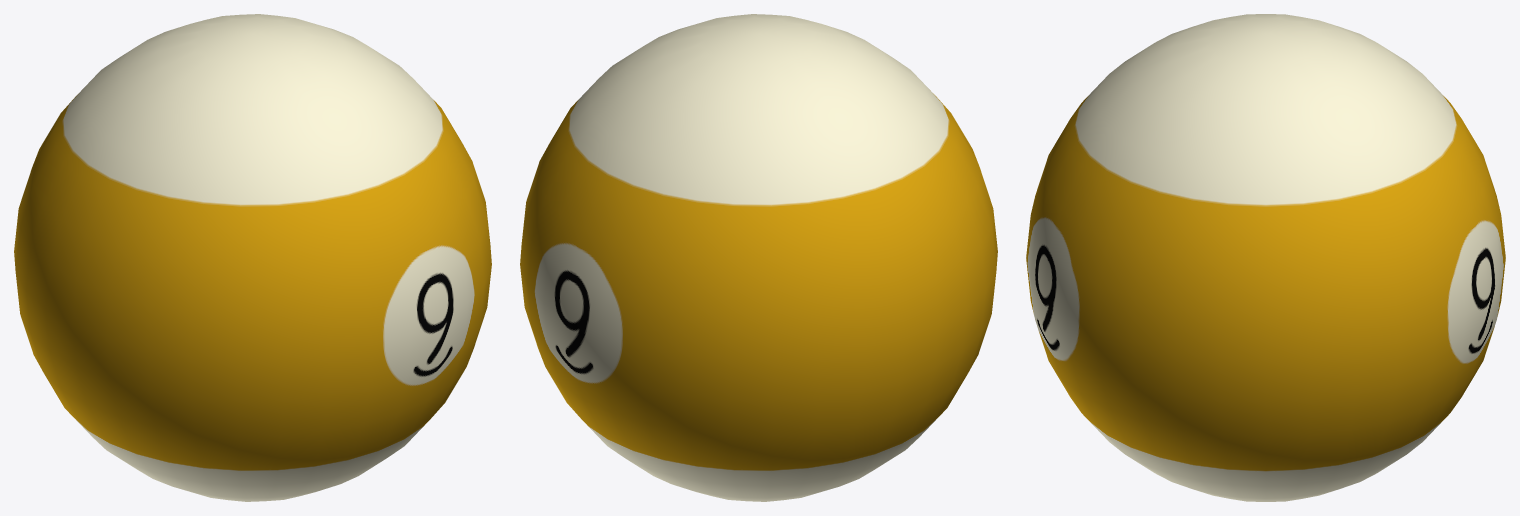
The model's file is ball_09_LOD0.fbx.
3 views of the same model, side by side, from view 1: azimuth 30°, elevation 25°; view 2: azimuth 150°, elevation 25°; view 3: azimuth 270°, elevation 25° (orthographic).
Parts seen in each view (by area): view 1: ball_09_LOD0; view 2: ball_09_LOD0; view 3: ball_09_LOD0.
Part boxes in pixels (x1,y1,x2,y2): ball_09_LOD0: (14,14,491,501); ball_09_LOD0: (520,14,997,501); ball_09_LOD0: (1026,14,1505,501).
Size of the model in its own units: 5.5 by 5.67 by 5.5.
